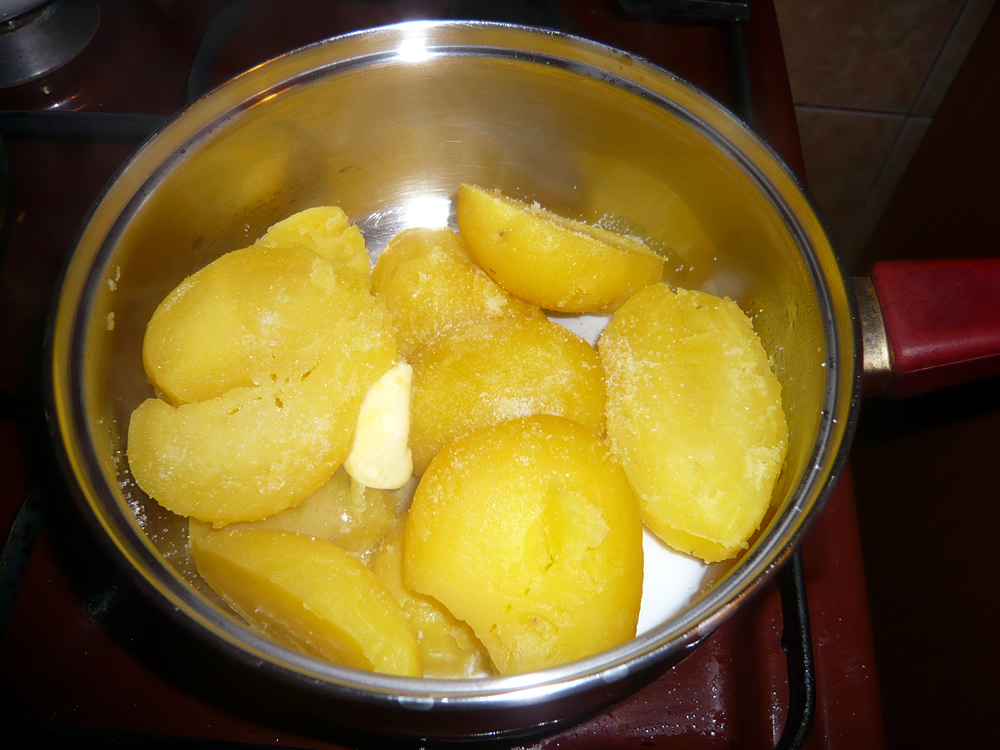boiled potatoes: (174, 207, 771, 667)
